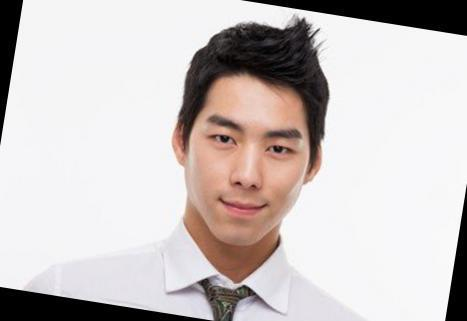Sober: (197, 84, 307, 223)
